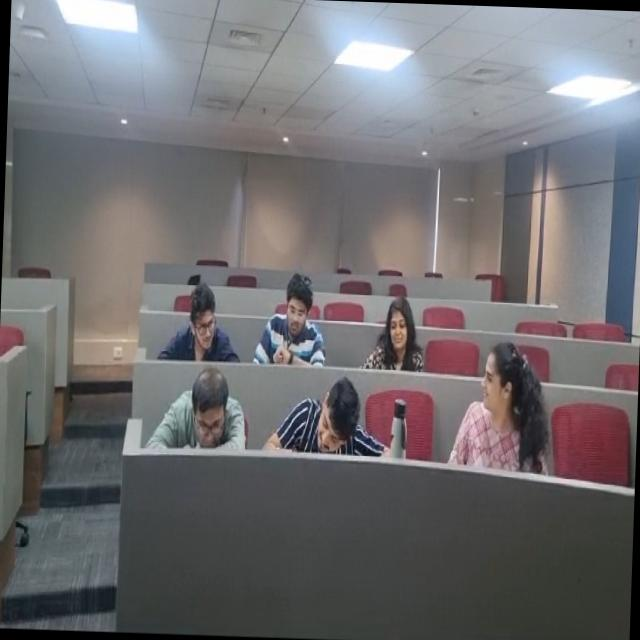cheating: (448, 322, 572, 494), (242, 253, 336, 371), (153, 263, 250, 362)
non-cheating: (267, 340, 409, 484), (150, 372, 264, 472), (355, 272, 440, 372)
